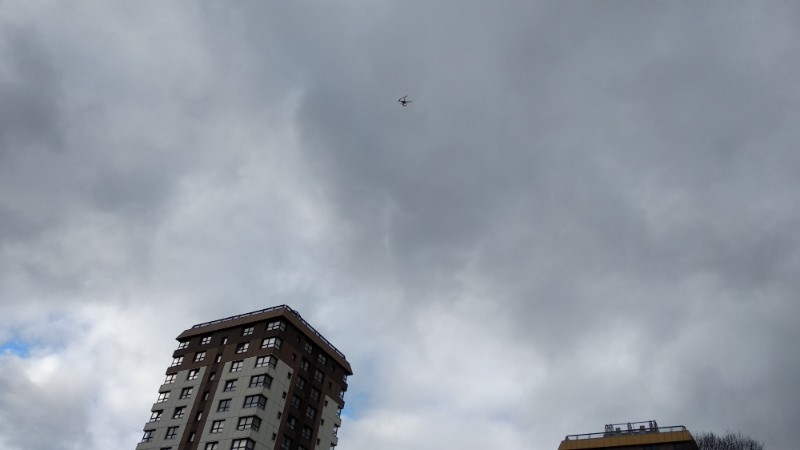drone: (399, 96, 412, 107)
